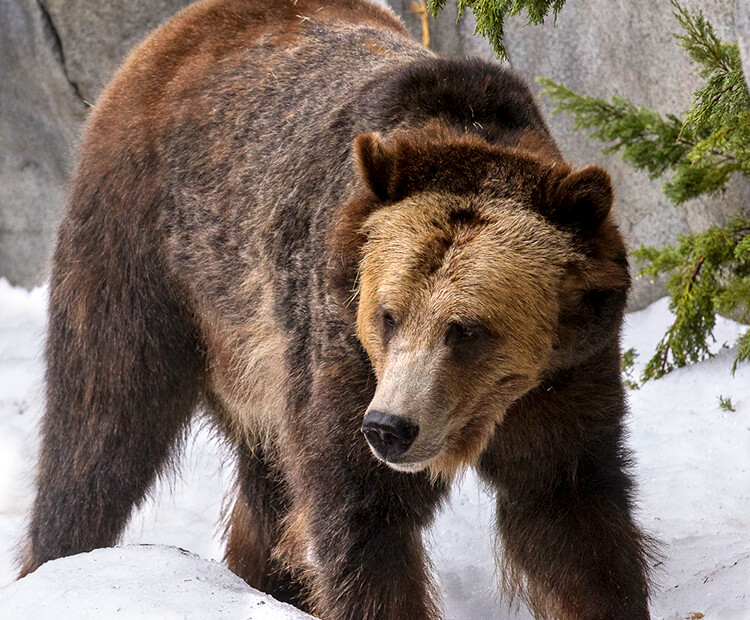bear: (323, 126, 616, 480)
